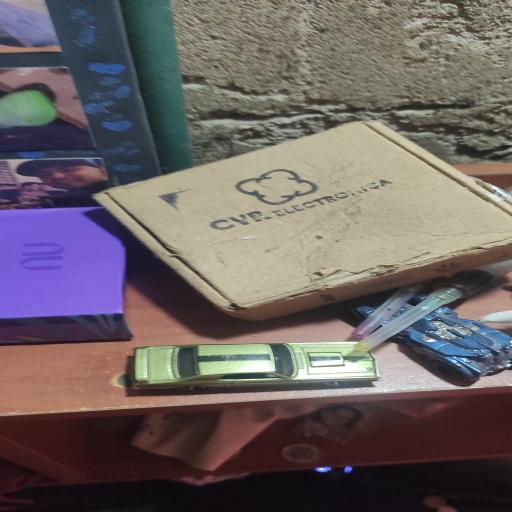Carrito: (133, 342, 378, 388)
